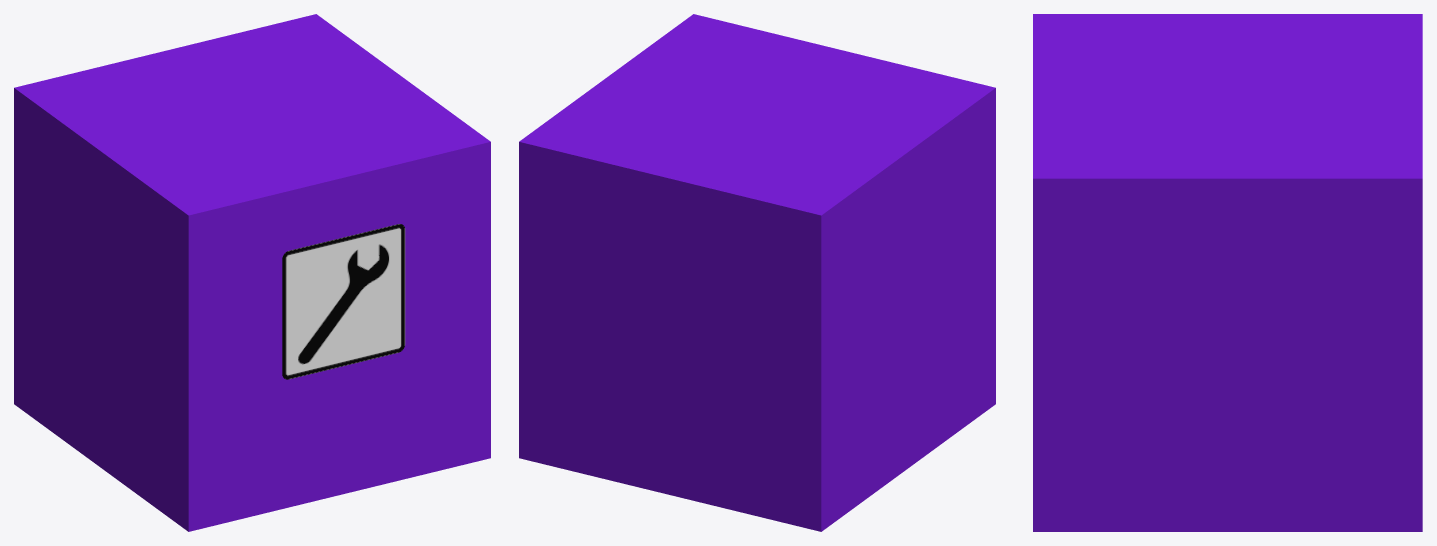
File: crafter.fbx
The picture shows the model from 3 angles, left to right: view 1: azimuth 30°, elevation 25°; view 2: azimuth 150°, elevation 25°; view 3: azimuth 270°, elevation 25°; orthographic projection. The views are drawn at different scales.
Visible parts, largest first — view 1: Cube, Plane; view 2: Cube; view 3: Cube.
Boxes of the visible parts, x1=… form: Cube: x1=14, y1=14, x2=490, y2=531; Plane: x1=282, y1=224, x2=405, y2=379; Cube: x1=519, y1=14, x2=995, y2=531; Cube: x1=1033, y1=14, x2=1422, y2=531.
Size of the model in its own units: 773 by 773 by 790.
